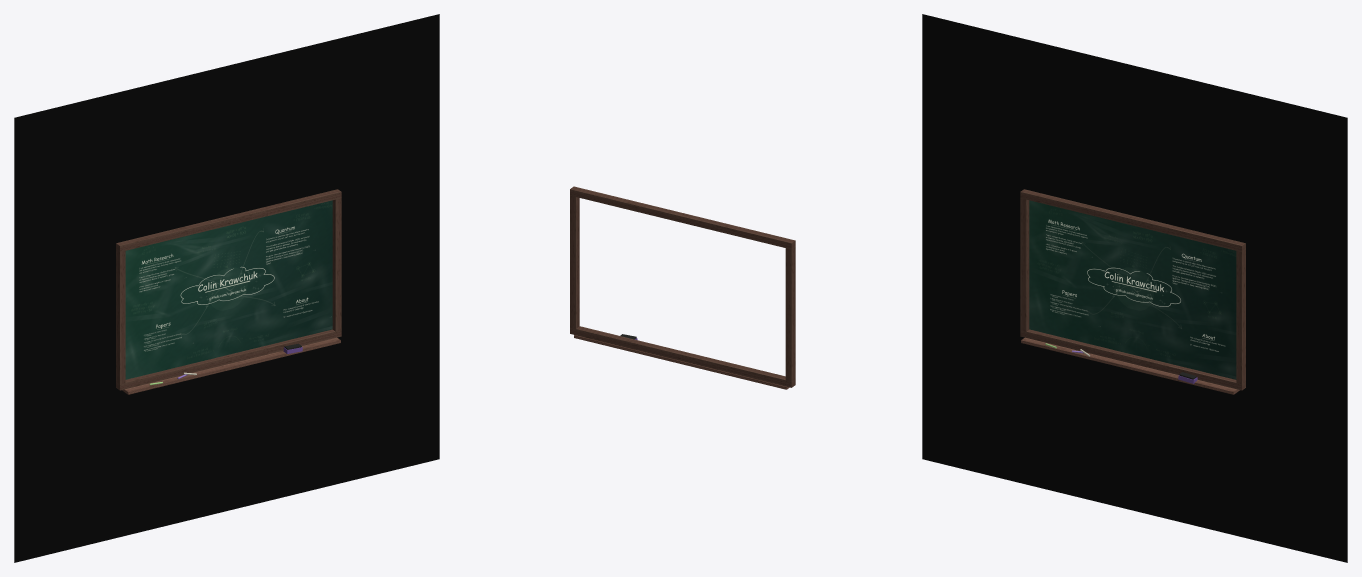
The picture shows the model from 3 angles, left to right: view 1: azimuth 30°, elevation 25°; view 2: azimuth 150°, elevation 25°; view 3: azimuth 330°, elevation 25°; orthographic projection.
Size of what is drawn, in the model's own units: 30 by 30 by 1.11.
20 materials, 15 textured.
